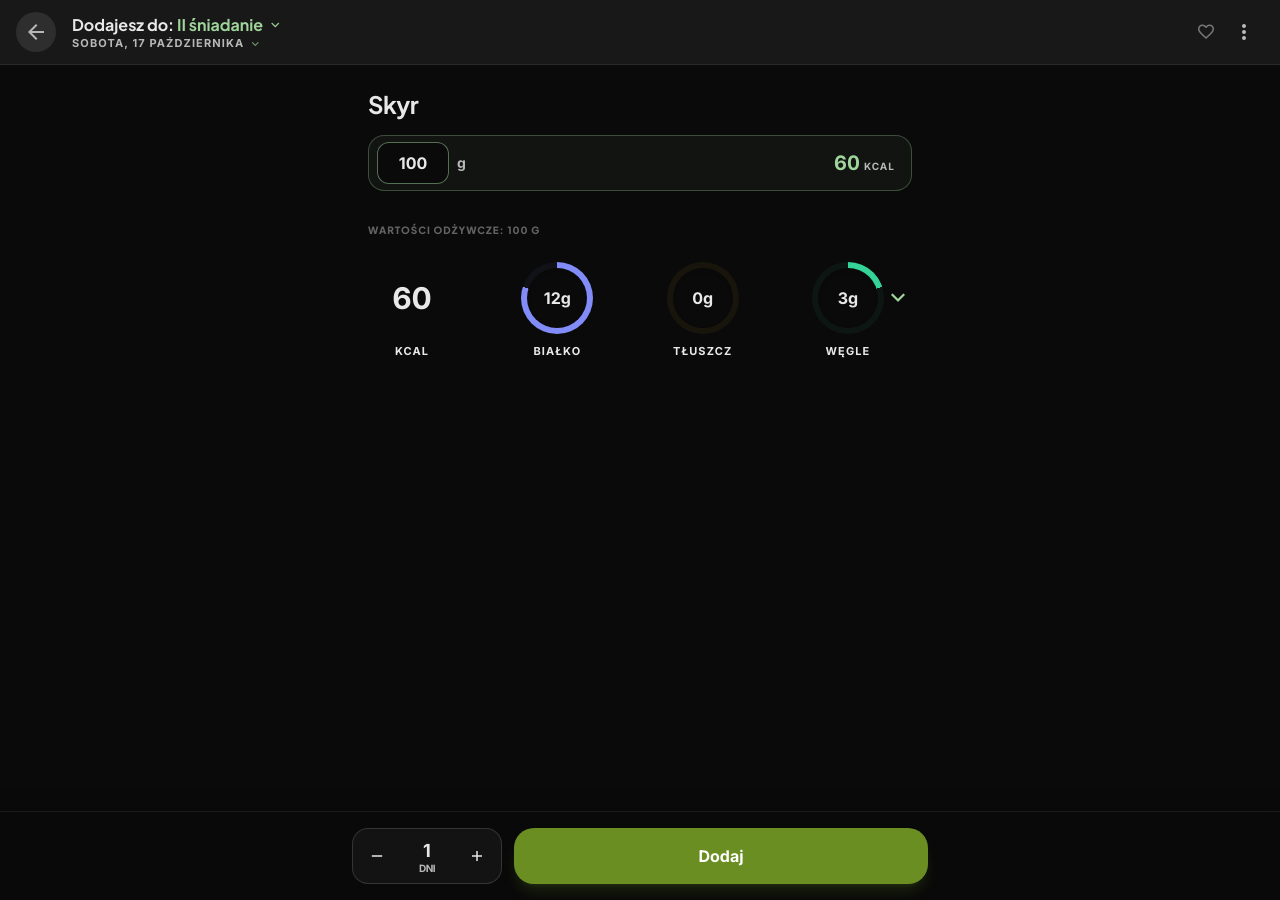
Test: ProductDetails nutrition table › opens one table per 100 g from the carbs ring
This screenshot has width=1280, height=900.
What coordinates should you click on to do the following:
click the button "3g Węgle"
I would click on:
 (858, 310)
Its box is x1=812 y1=262 x2=904 y2=357.
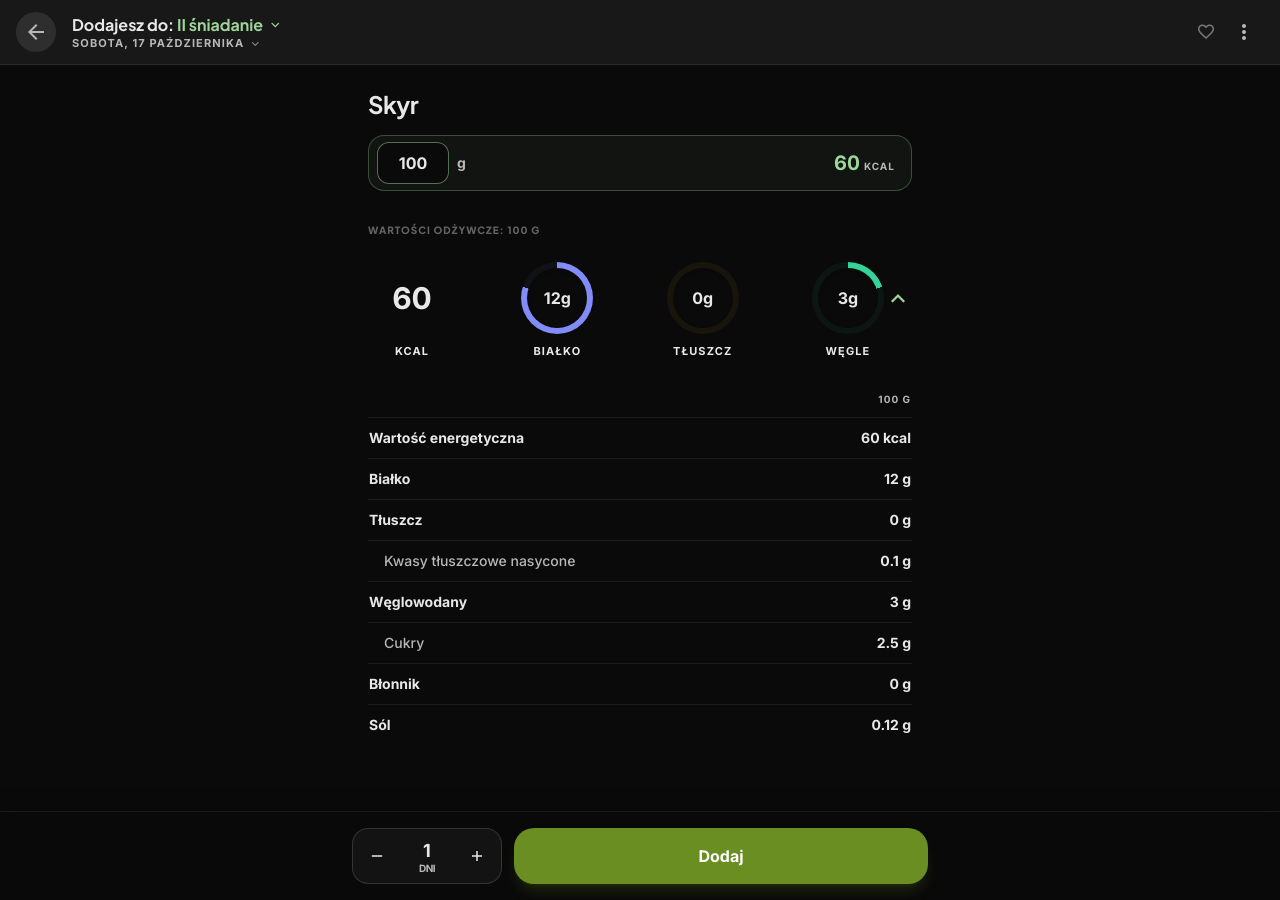
Result: the cell "2.5 g" is shown at x1=792 y1=622 x2=912 y2=664
Result: the cell "0.12 g" is shown at x1=792 y1=704 x2=912 y2=745
What coordinates should you click on to do the following:
click the button "3g Węgle"
I would click on:
 (858, 310)
Its box is x1=812 y1=262 x2=904 y2=357.
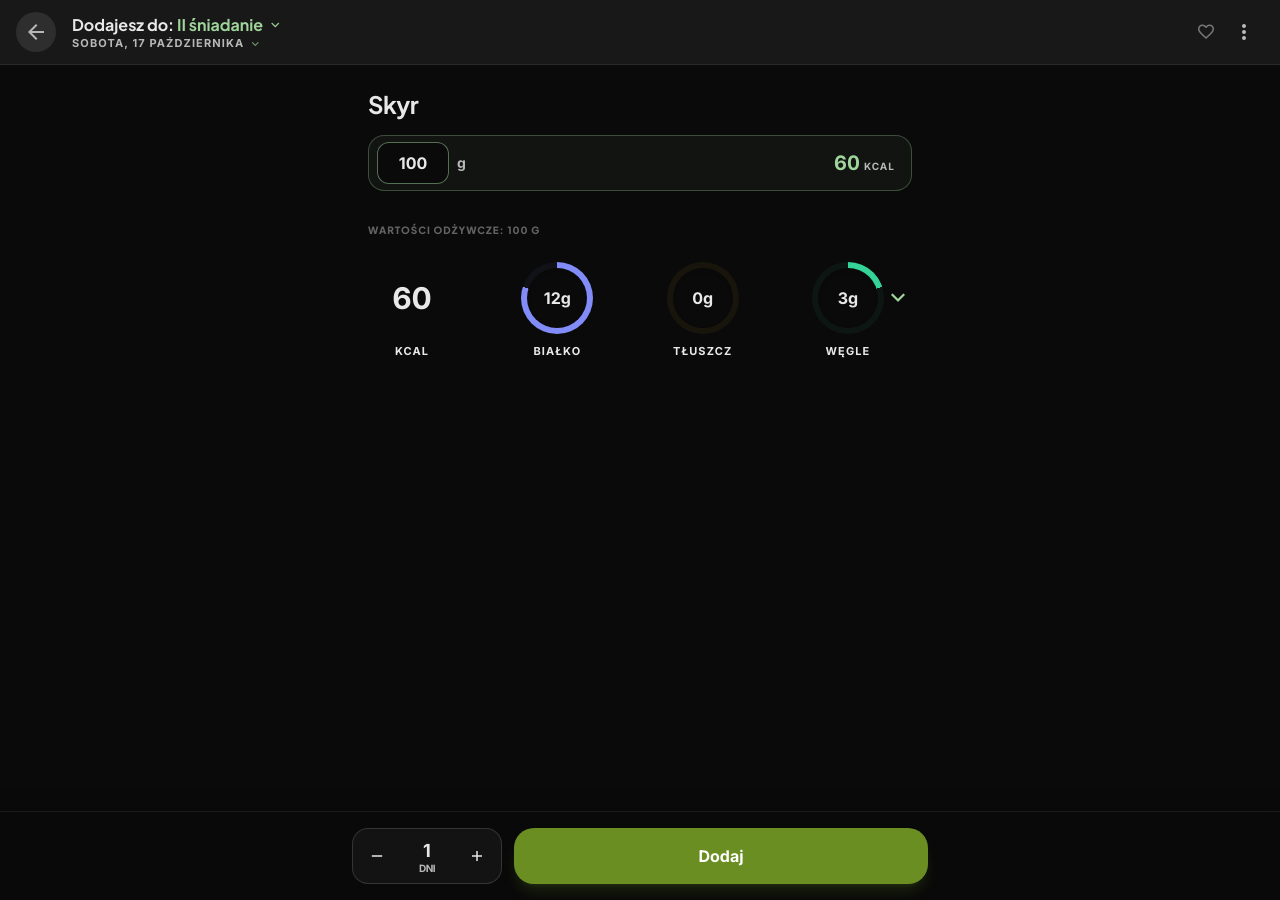
Result: the table is gone
